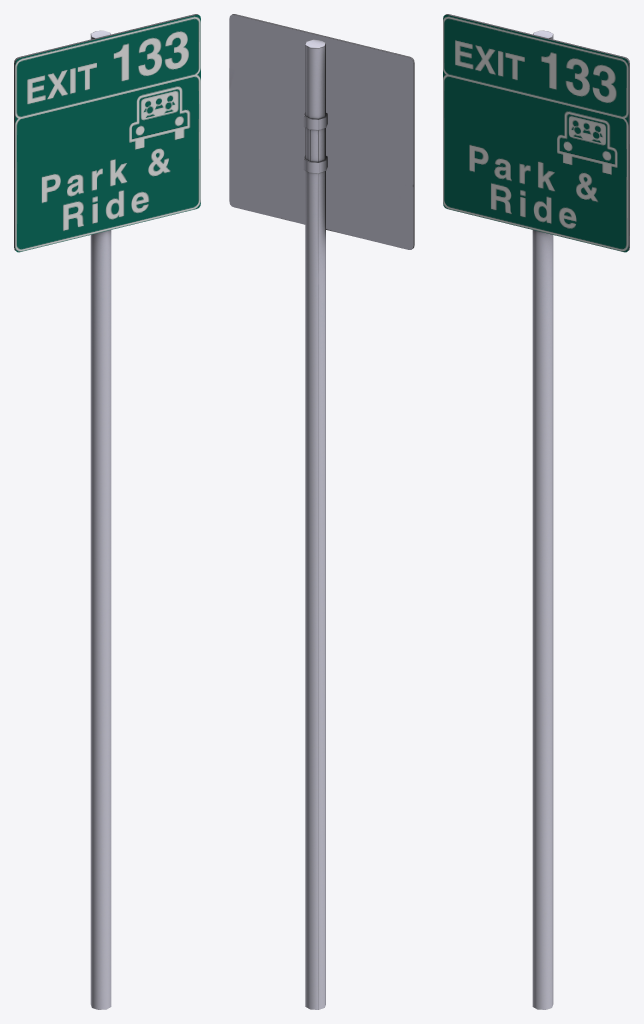
The model's file is sign#2.FBX.
3 renders of one model, left to right at view 1: azimuth 30°, elevation 25°; view 2: azimuth 150°, elevation 25°; view 3: azimuth 330°, elevation 25°, orthographic.
Parts seen in each view (by area): view 1: Cylinder001; view 2: Cylinder001; view 3: Cylinder001.
Boxes of the visible parts, x1,y1,x2,y2 form: Cylinder001: (14, 14, 200, 1009); Cylinder001: (229, 14, 414, 1009); Cylinder001: (443, 14, 629, 1009).
Size of the model in its own units: 15.75 by 79.03 by 1.95.
